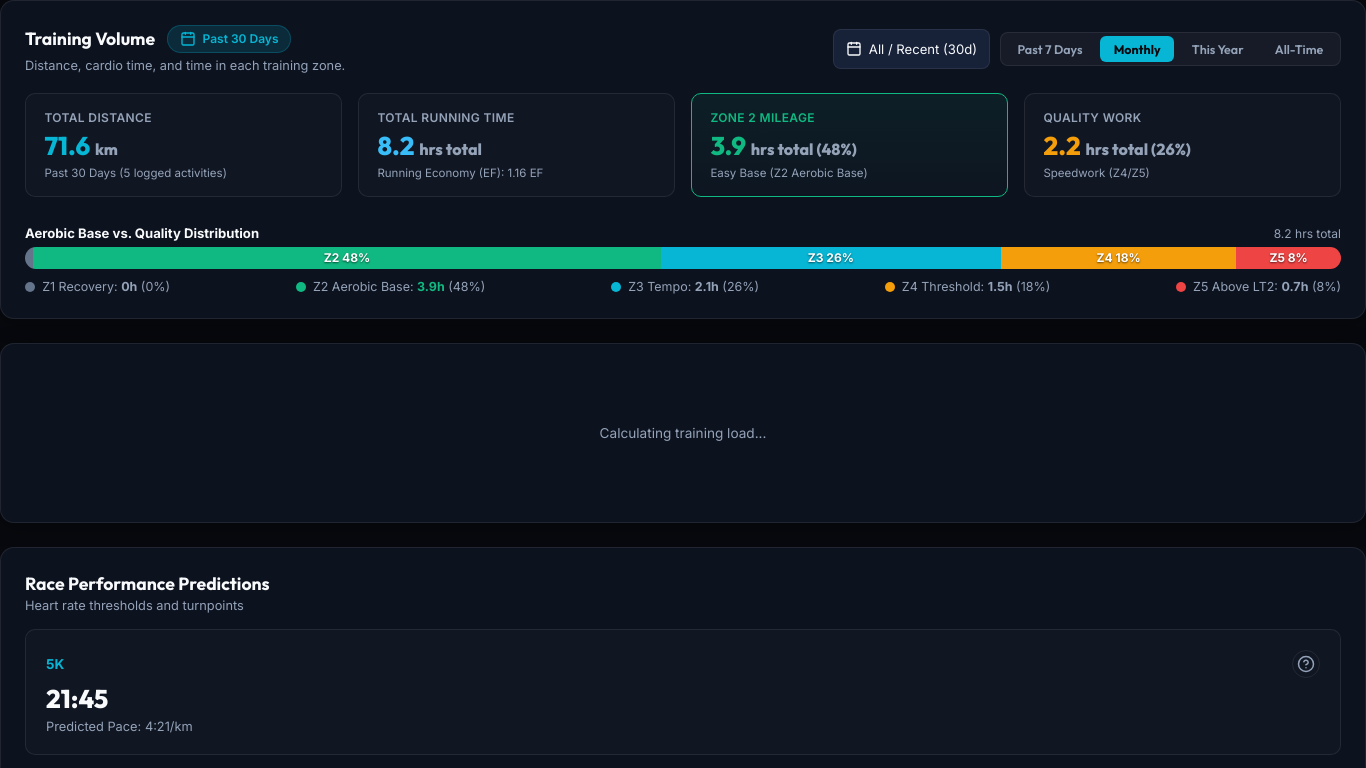
StatsView UI Tests › dismisses the month picker with Escape
The width and height of the screenshot is (1366, 768).
Click the button "All / Recent (30d)" at (911, 49), box [833, 29, 990, 69]
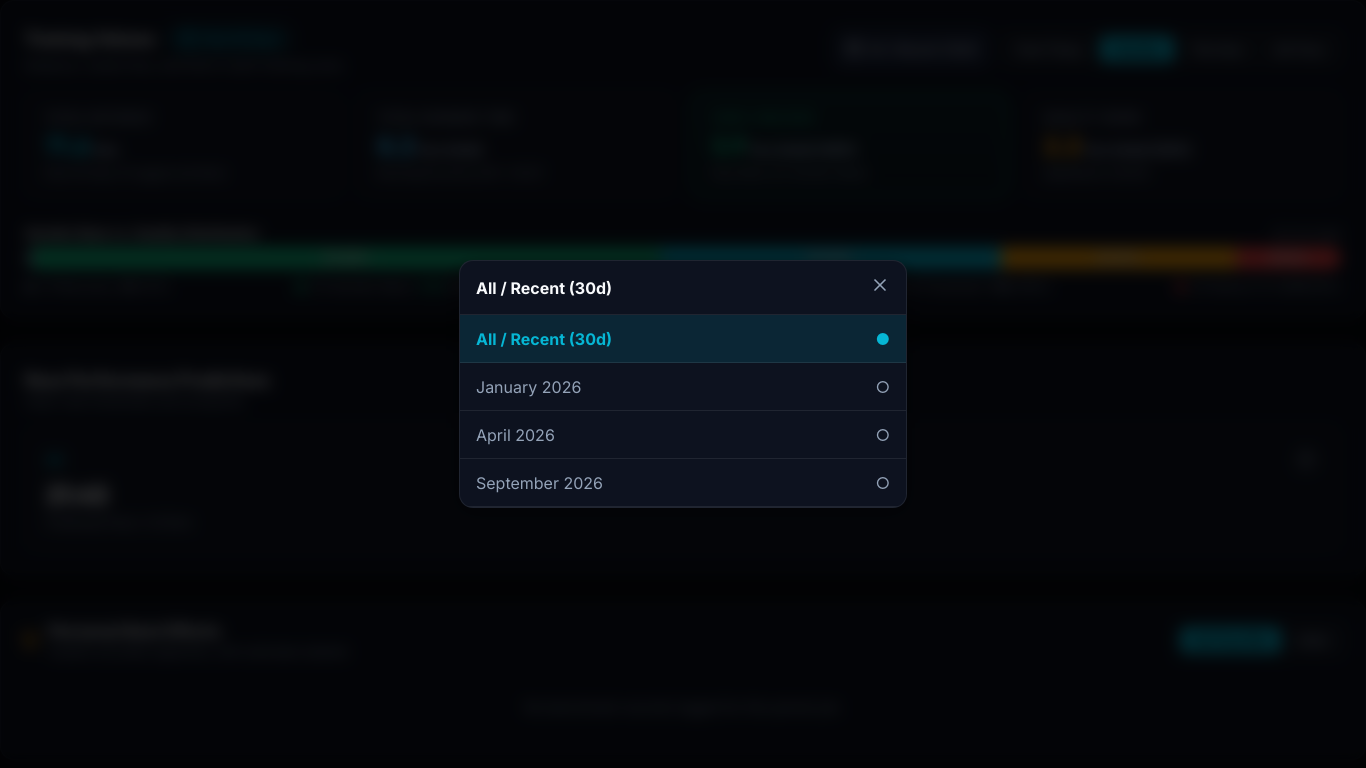
expect the dialog is shown: met, box [459, 260, 907, 508]
Press Escape
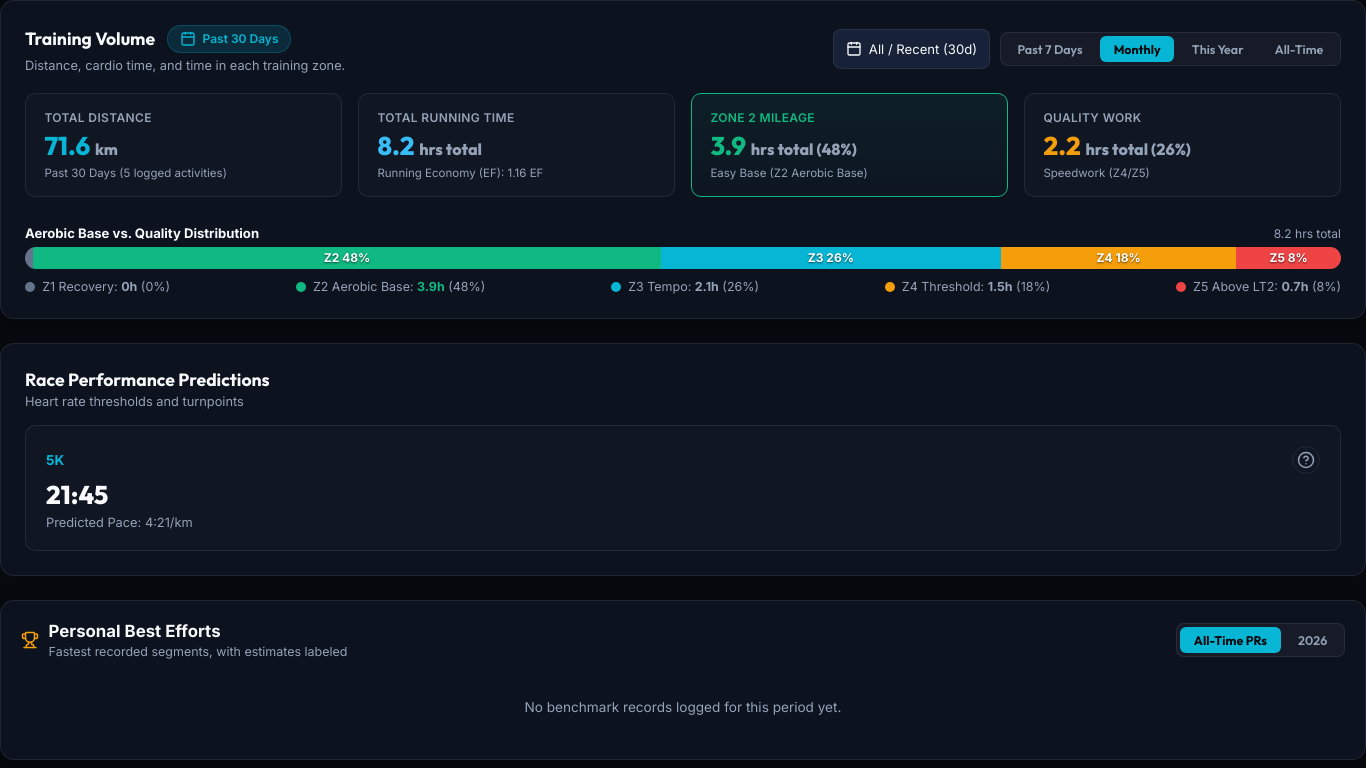
expect the dialog is gone: met
